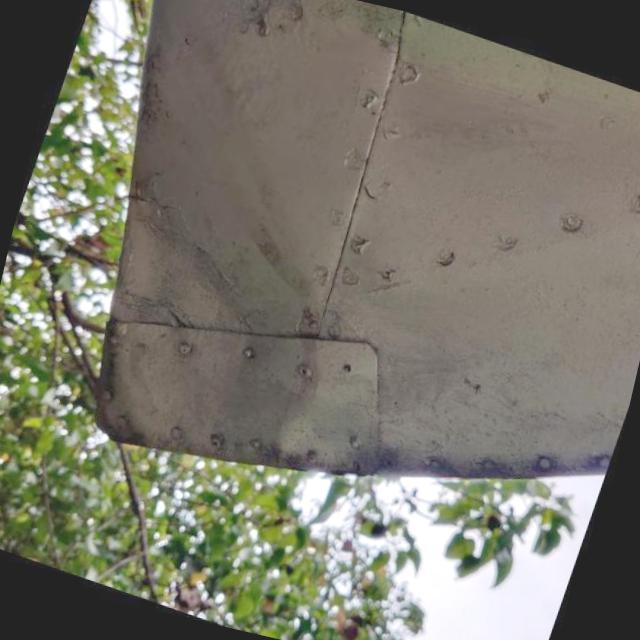dent: (80, 191, 402, 493)
